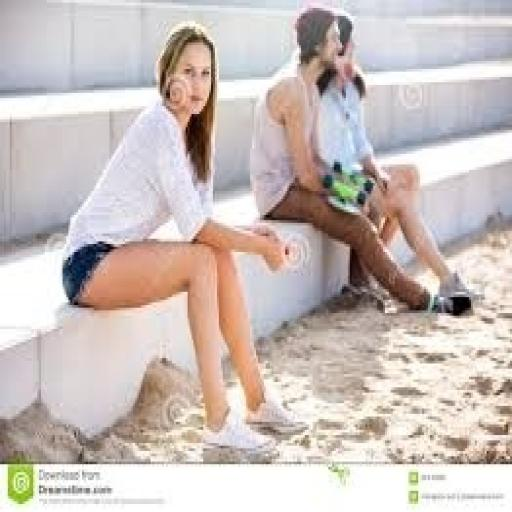sitting: (58, 19, 308, 456), (248, 6, 473, 318)
